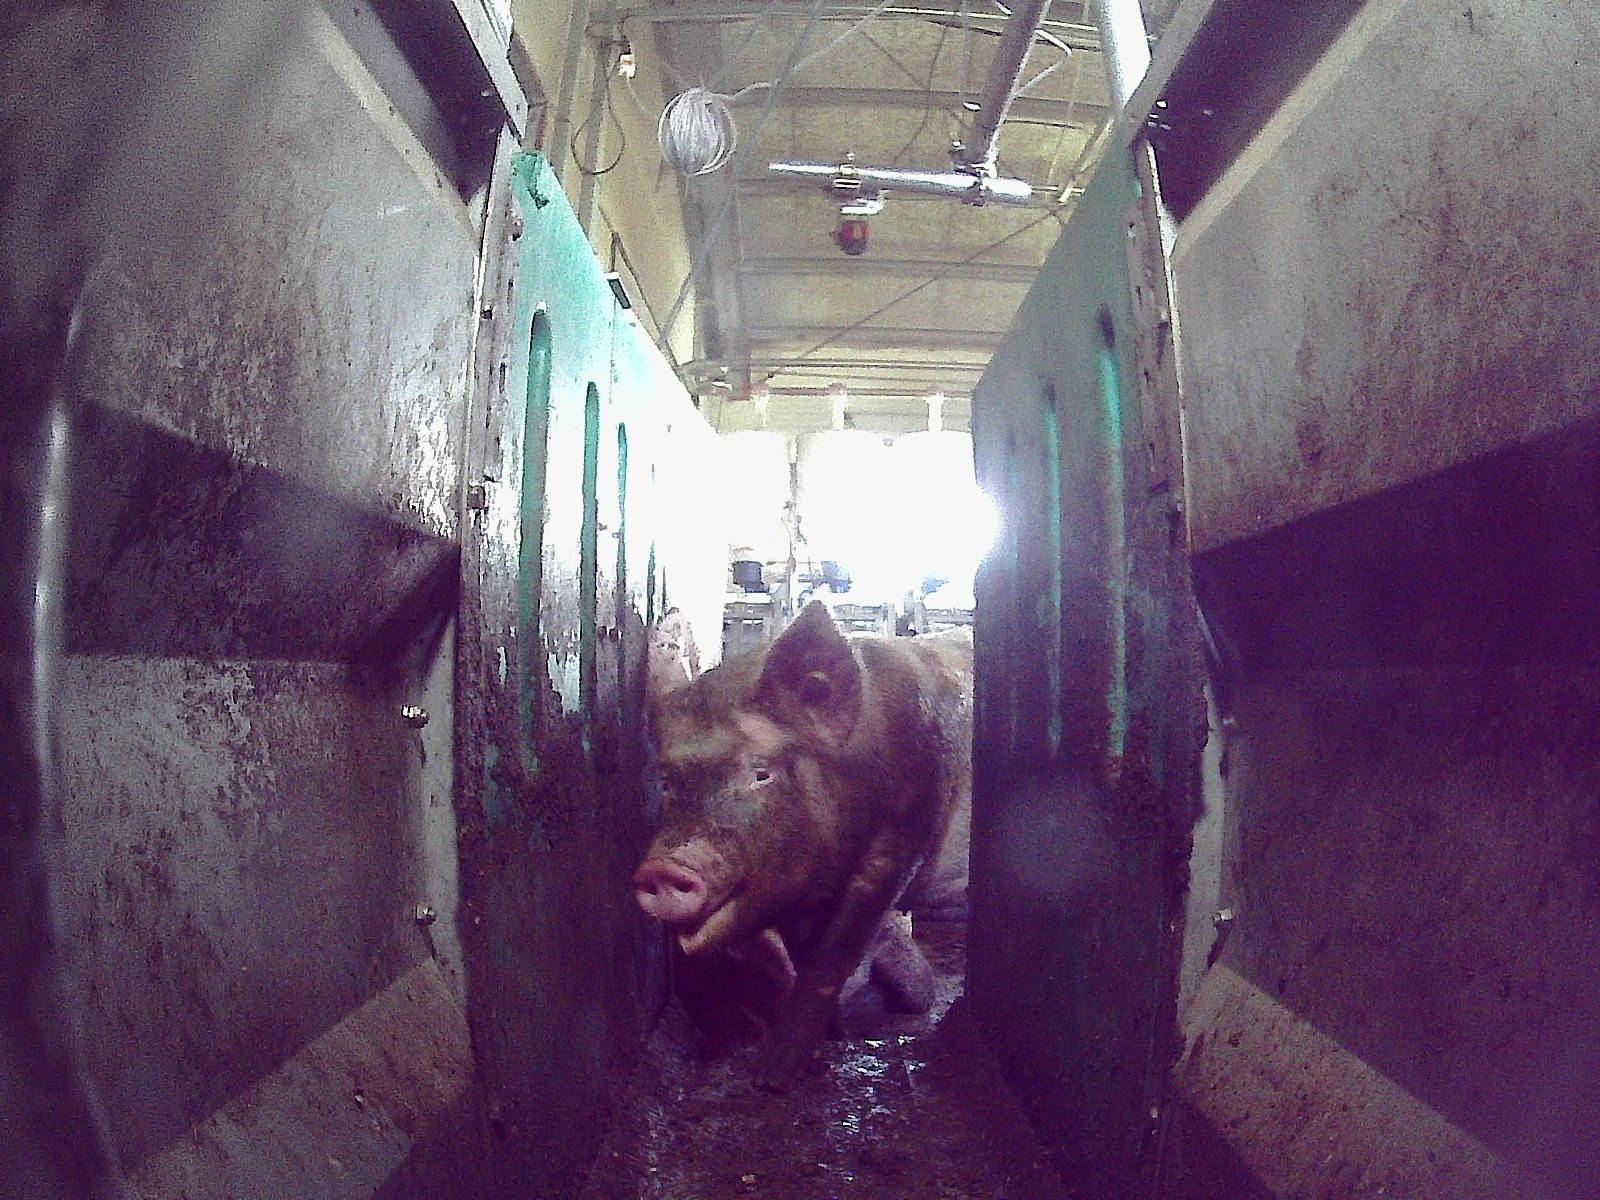Face: (631, 669, 821, 953)
